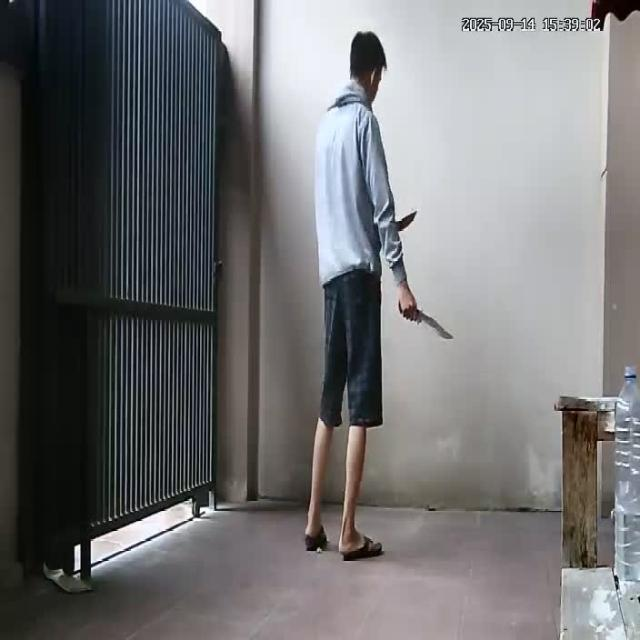senjata_tajam: (416, 308, 455, 342)
